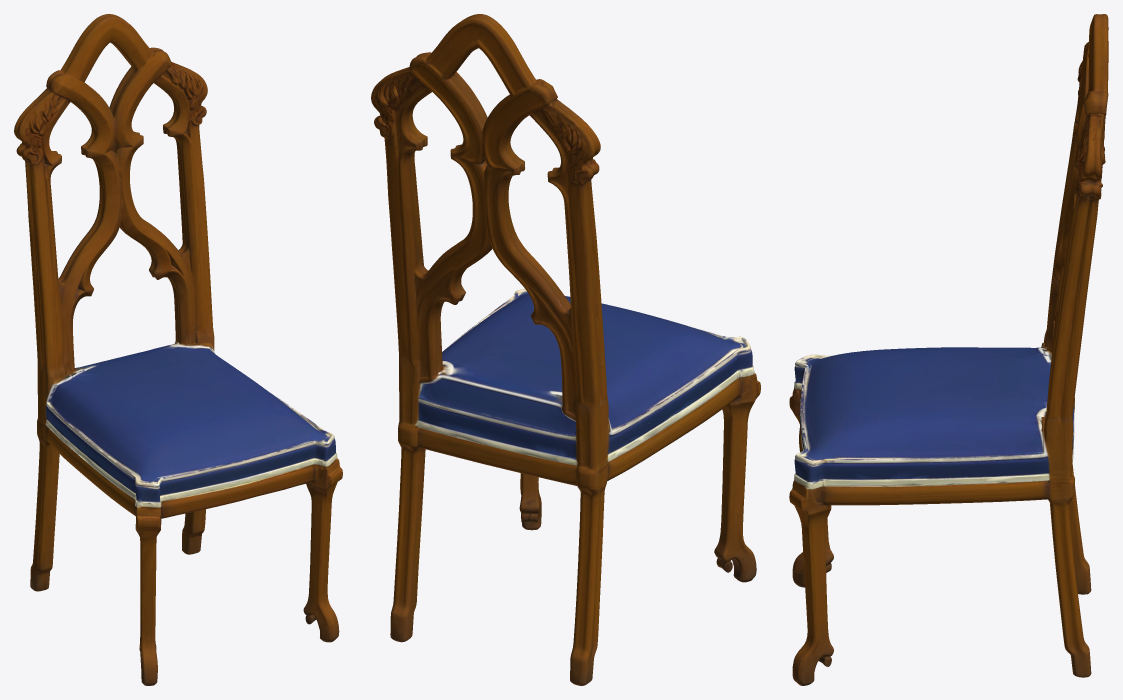
File: m-chair-realistic.glb
3 views of the same model, side by side, from view 1: azimuth 30°, elevation 25°; view 2: azimuth 150°, elevation 25°; view 3: azimuth 270°, elevation 25° (orthographic). The views are drawn at different scales.
Visible parts, largest first — view 1: node_0; view 2: node_0; view 3: node_0.
Part boxes in pixels (left/top/right/bottom): node_0: left=14, top=14, right=342, bottom=685; node_0: left=371, top=14, right=760, bottom=685; node_0: left=789, top=14, right=1108, bottom=685.
Bounding box in the file's own units: 0.3931 × 1.01 × 0.4711.
Materials: 1 (1 with a texture image).
